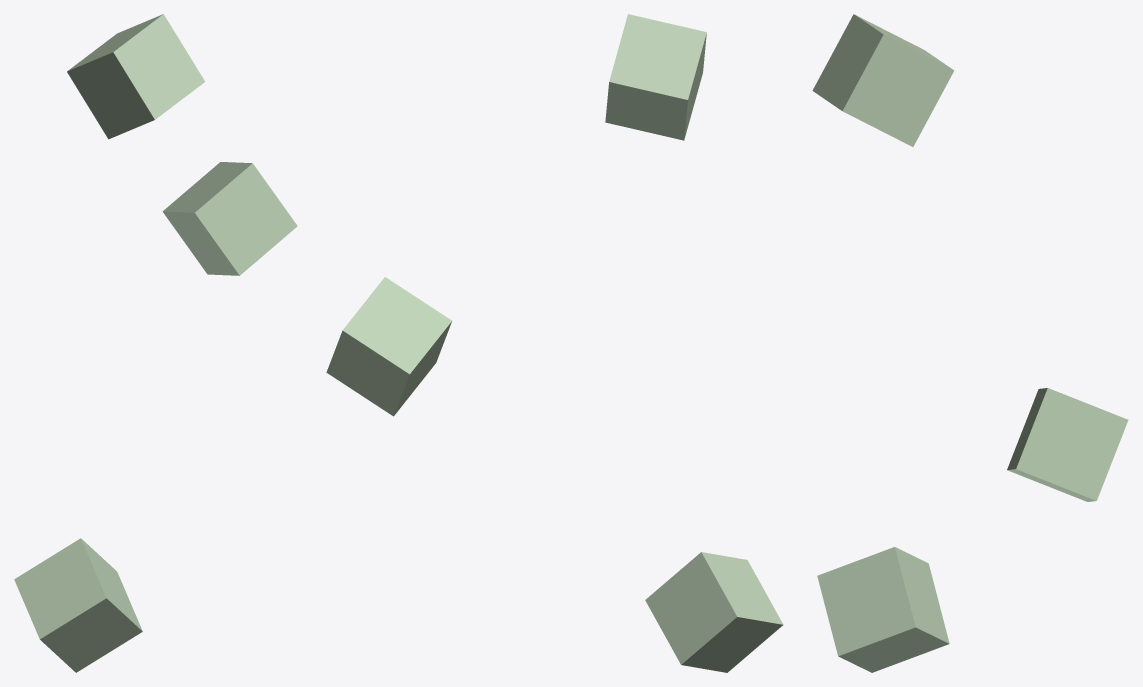
Rendered from stage.gltf.
3 views of the same model, side by side, from view 1: azimuth 30°, elevation 25°; view 2: azimuth 150°, elevation 25°; view 3: azimuth 270°, elevation 25° (orthographic). The views are drawn at different scales.
Parts seen in each view (by area): view 1: Cube, Cube.002, Cube.001; view 2: Cube, Cube.001, Cube.002; view 3: Cube, Cube.002, Cube.001.
Boxes of the visible parts, x1,y1,x2,y2 form: Cube: (14,538,142,672); Cube.002: (67,14,205,139); Cube.001: (162,162,297,275); Cube: (645,552,783,672); Cube.001: (326,277,451,416); Cube.002: (605,14,706,140); Cube: (817,547,949,672); Cube.002: (812,14,954,146); Cube.001: (1007,388,1128,501).
Size of the model in its own units: 9.75 by 17.39 by 7.25.
